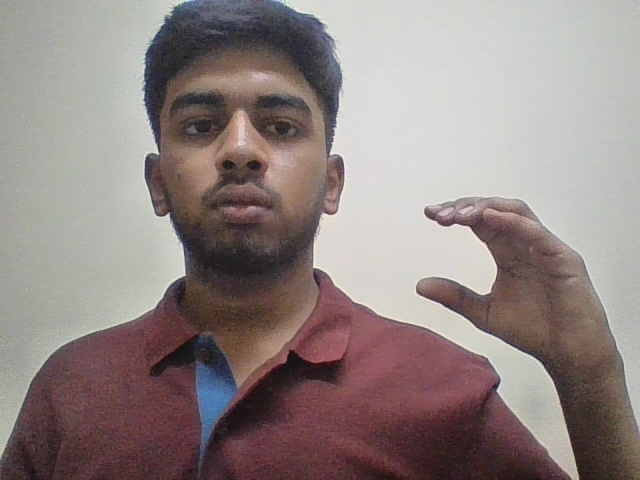C: (401, 178, 624, 373)
